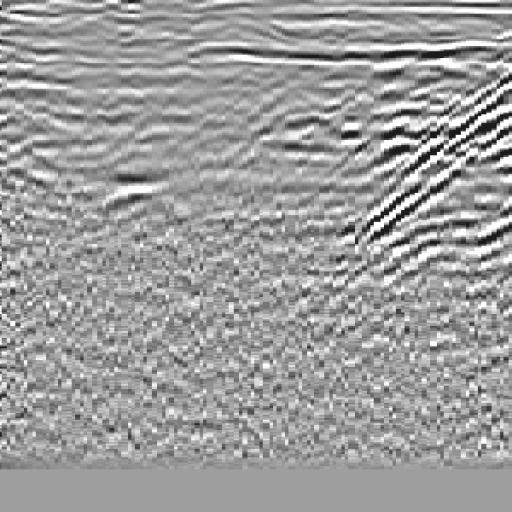metalic: (62, 44, 216, 249)
nonmetalic: (332, 52, 512, 300)
